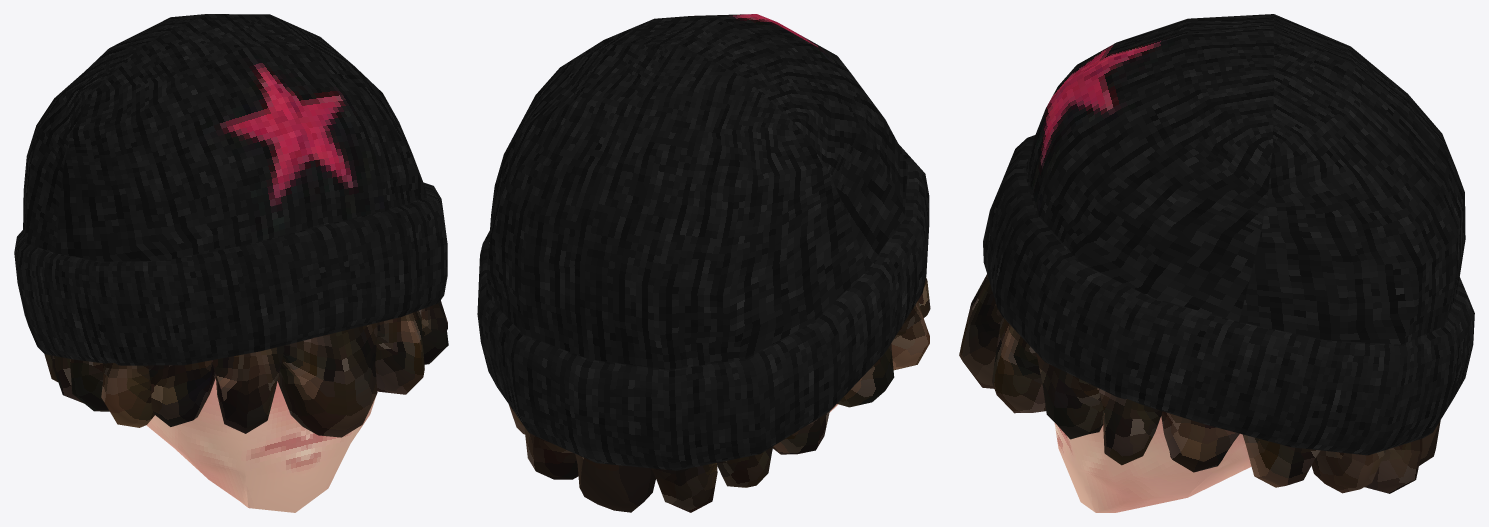
The model's file is 1765408166359-Lucas_web.glb.
3 views of the same model, side by side, from view 1: azimuth 30°, elevation 25°; view 2: azimuth 150°, elevation 25°; view 3: azimuth 270°, elevation 25° (orthographic). The views are drawn at different scales.
Parts seen in each view (by area): view 1: Cube.006, Plane.003, Cube.007; view 2: Cube.006, Plane.003; view 3: Cube.006, Plane.003, Cube.007.
Part boxes in pixels (x1,y1,x2,y2): Cube.006: (14, 14, 447, 365); Plane.003: (44, 300, 448, 437); Cube.007: (146, 378, 377, 512); Cube.006: (477, 14, 929, 470); Plane.003: (509, 277, 930, 512); Cube.006: (983, 14, 1474, 455); Plane.003: (959, 274, 1440, 493); Cube.007: (1054, 416, 1251, 512).
Bounding box in the file's own units: 0.591 × 0.6844 × 0.6772.
1 material, 1 textured.
